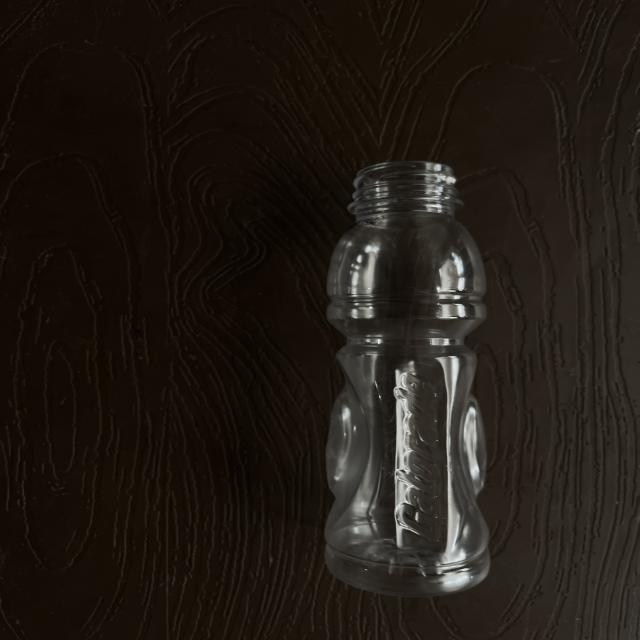PET_ClearBottle: (306, 148, 508, 589)
